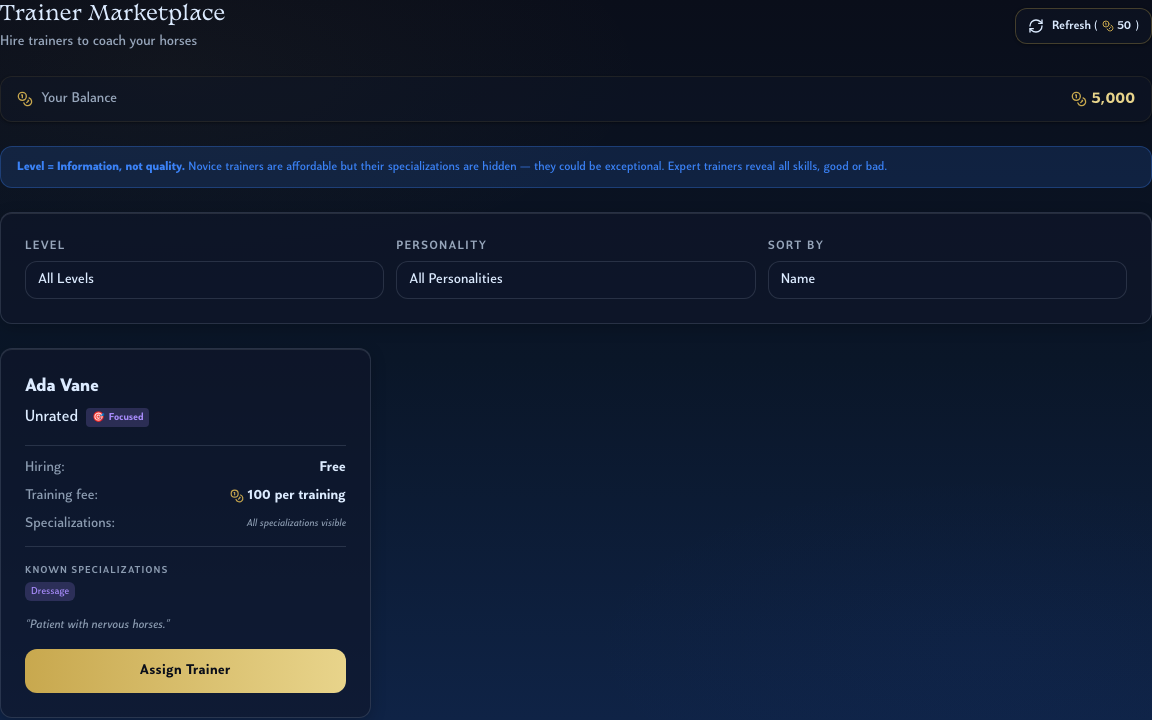
Scenario: TrainerList — hire feedback (Equoria-ln49p) › a server fault on hire shows the shared class copy, not server text
Click the button with test id "hire-button-mk-1". click: (185, 671)
box: [25,649,346,693]
(page scrolled)
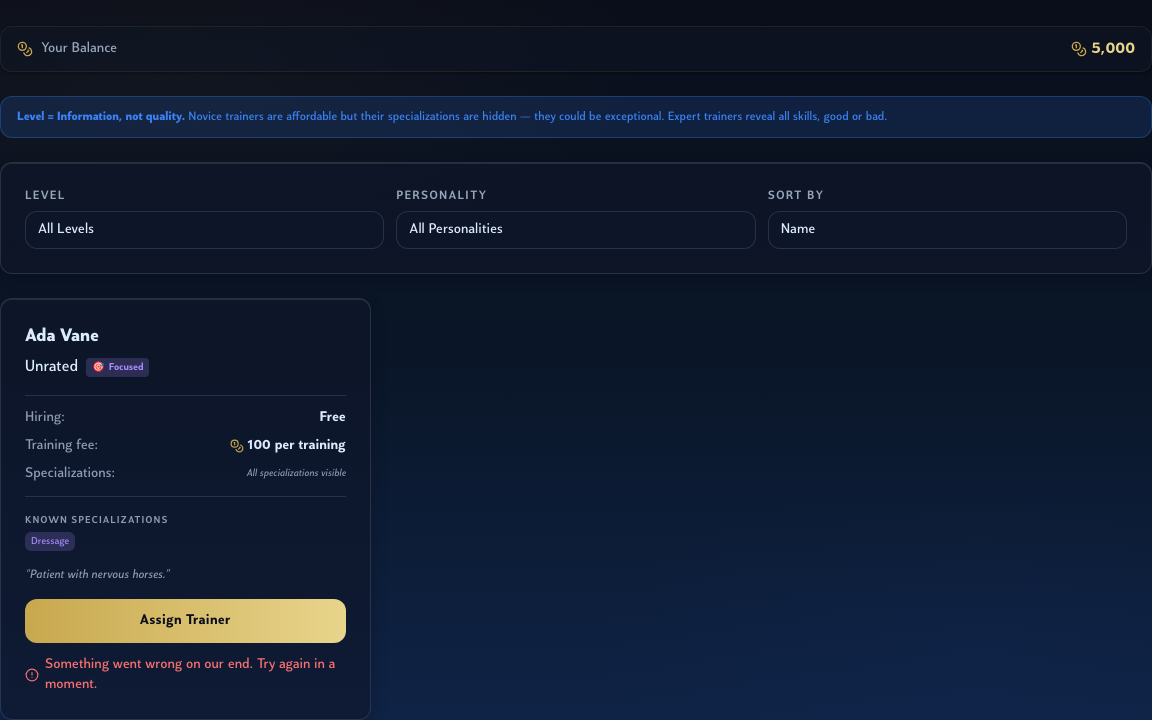
Check: the message shows "Something went wrong", box [45,657,335,692]
